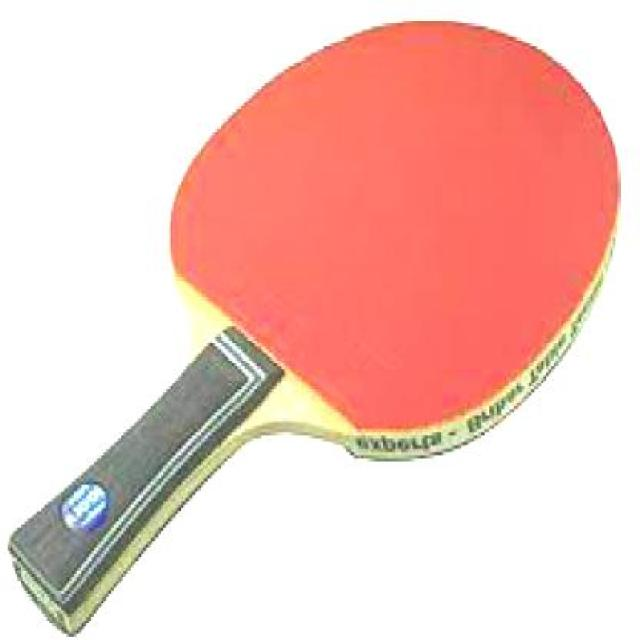table_tennis_racket: (8, 20, 623, 638)
